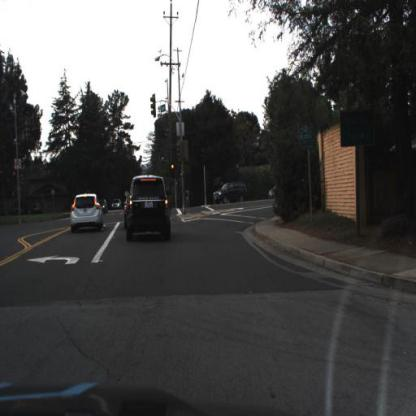car: (125, 173, 172, 243), (70, 194, 102, 234), (212, 180, 248, 205), (266, 185, 278, 199)
trafficLight-Red: (168, 160, 177, 179), (12, 170, 16, 186)
